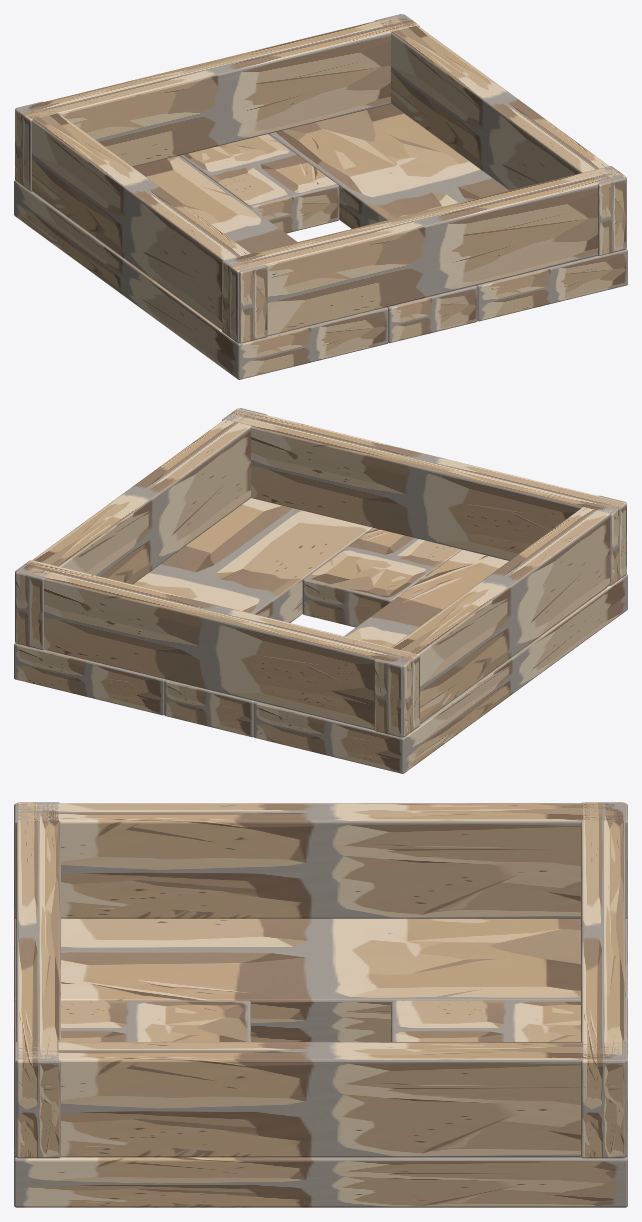
File: fortress_tower_roof_platform_LOD1.glb
3 views of the same model, one above another, from view 1: azimuth 30°, elevation 25°; view 2: azimuth 150°, elevation 25°; view 3: azimuth 270°, elevation 25° (orthographic). The views are drawn at different scales.
Parts seen in each view (by area): view 1: LOD_Parapet, LOD_Parapet.001, LOD_Parapet.002, LOD_DeckRight, LOD_DeckLeft, LOD_Parapet.003, LOD_DeckNorth, LOD_DeckSouth; view 2: LOD_Parapet.001, LOD_Parapet, LOD_Parapet.002, LOD_DeckRight, LOD_DeckLeft, LOD_Parapet.003, LOD_DeckSouth, LOD_DeckNorth; view 3: LOD_Parapet.002, LOD_Parapet.003, LOD_DeckLeft, LOD_DeckRight, LOD_Parapet, LOD_Parapet.001, LOD_DeckNorth, LOD_DeckSouth.
Boxes of the visible parts, x1,y1,x2,y2 form: LOD_Parapet: [222, 166, 626, 343]; LOD_Parapet.001: [15, 14, 419, 191]; LOD_Parapet.002: [15, 101, 267, 343]; LOD_DeckRight: [269, 104, 627, 321]; LOD_DeckLeft: [14, 155, 388, 379]; LOD_Parapet.003: [374, 14, 626, 255]; LOD_DeckNorth: [180, 134, 339, 233]; LOD_DeckSouth: [387, 285, 477, 343]; LOD_Parapet.001: [15, 560, 419, 737]; LOD_Parapet: [222, 408, 626, 585]; LOD_Parapet.002: [374, 495, 626, 737]; LOD_DeckRight: [14, 498, 372, 715]; LOD_DeckLeft: [253, 549, 627, 773]; LOD_Parapet.003: [15, 408, 267, 649]; LOD_DeckSouth: [302, 528, 461, 627]; LOD_DeckNorth: [164, 679, 254, 737]; LOD_Parapet.002: [14, 803, 627, 918]; LOD_Parapet.003: [14, 1042, 627, 1157]; LOD_DeckLeft: [14, 917, 627, 1041]; LOD_DeckRight: [14, 1156, 627, 1207]; LOD_Parapet: [16, 802, 60, 1158]; LOD_Parapet.001: [581, 802, 625, 1158]; LOD_DeckNorth: [391, 1000, 627, 1043]; LOD_DeckSouth: [14, 1000, 250, 1043].
Bounding box in the file's own units: 6.35 × 1.68 × 6.35.
1 material, 1 textured.
